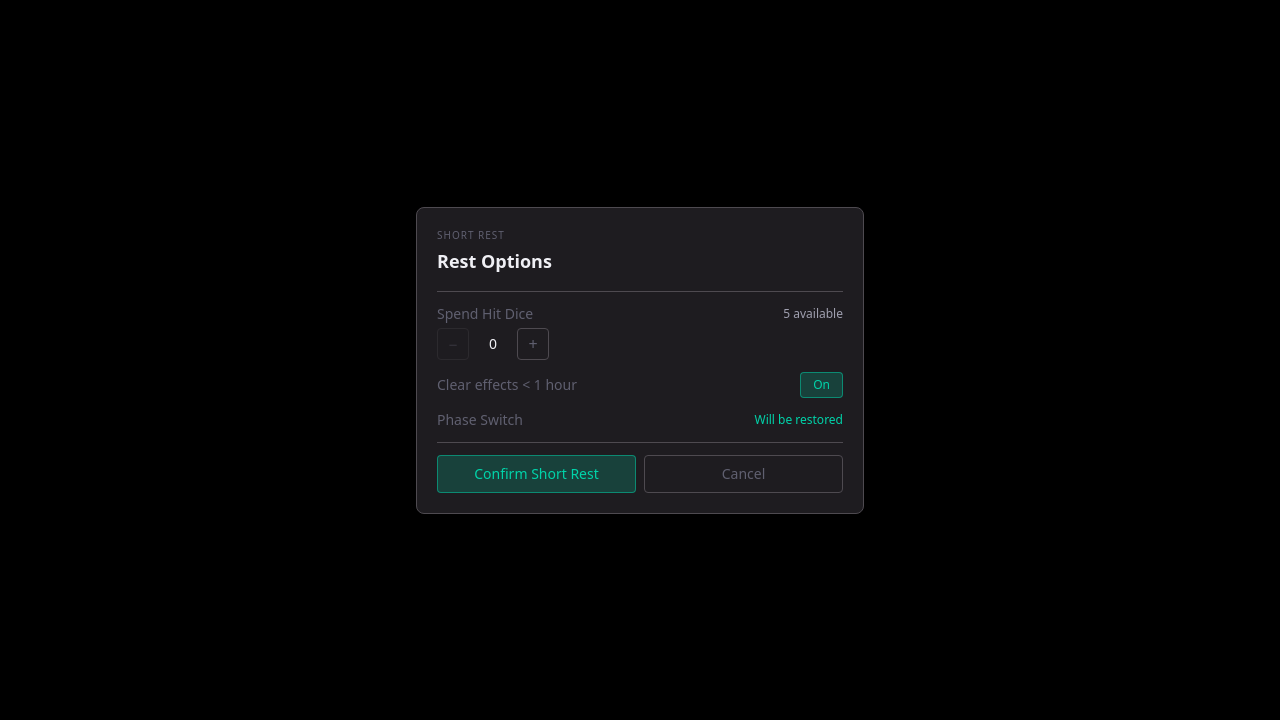
Test case: ShortRestDialog › increments and decrements hit dice to spend
Expected: the text "0" is shown, 489,334 -> 497,352
Click the button named "Increase hit dice": coordinates (533, 344) 517,328 -> 549,360
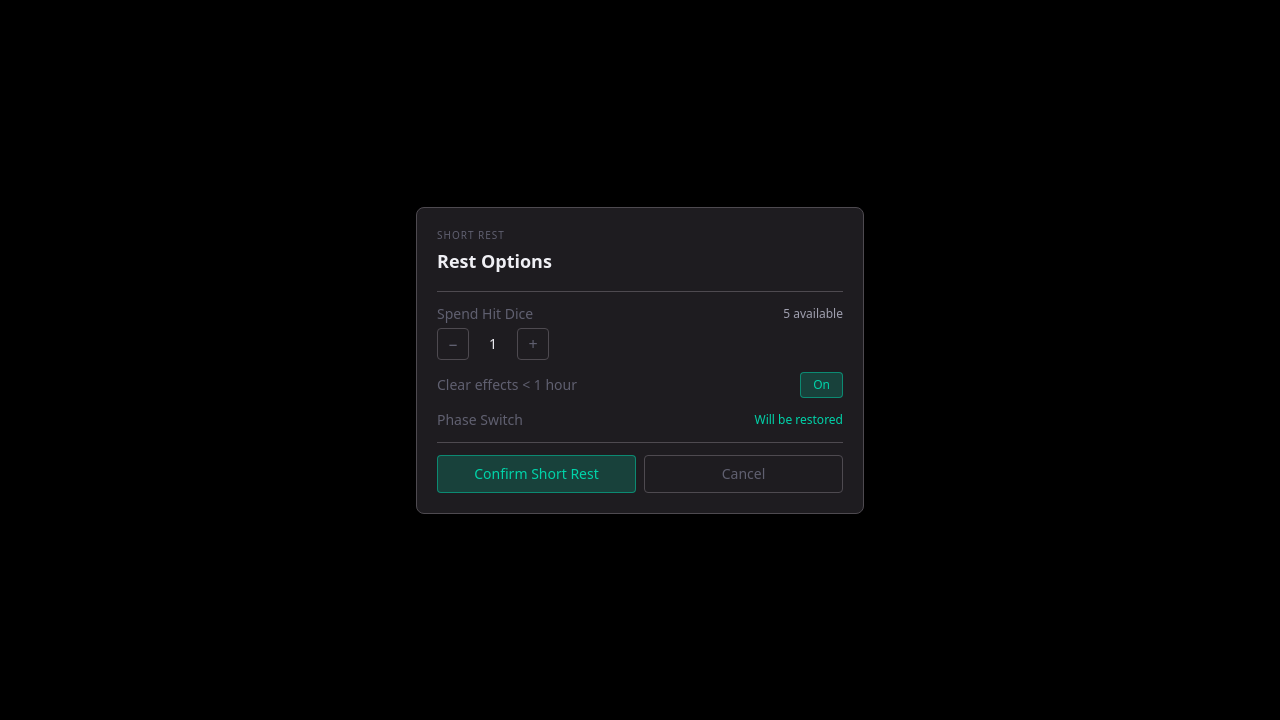
Result: the text "1" is shown at 489,334 -> 497,352
Click the button named "Increase hit dice": coordinates (533, 344) 517,328 -> 549,360
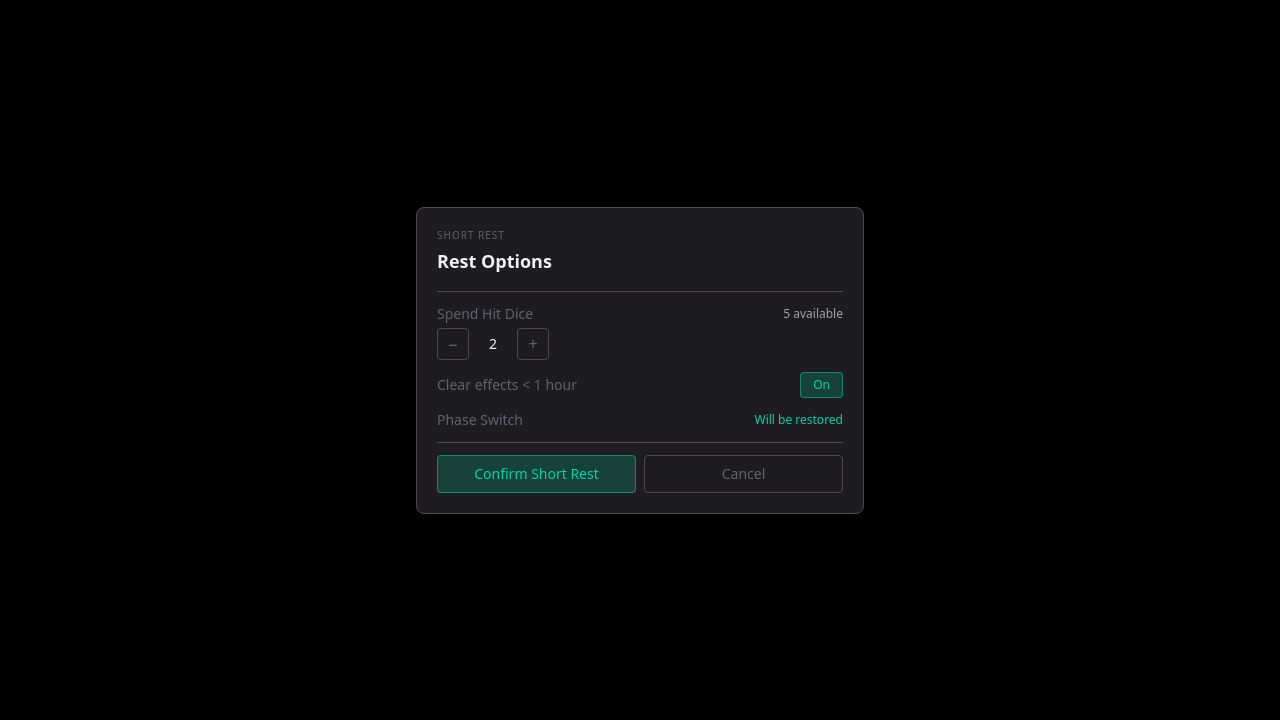
Result: the text "2" is shown at 489,334 -> 497,352
Click the button named "Decrease hit dice": coordinates (453, 344) 437,328 -> 469,360
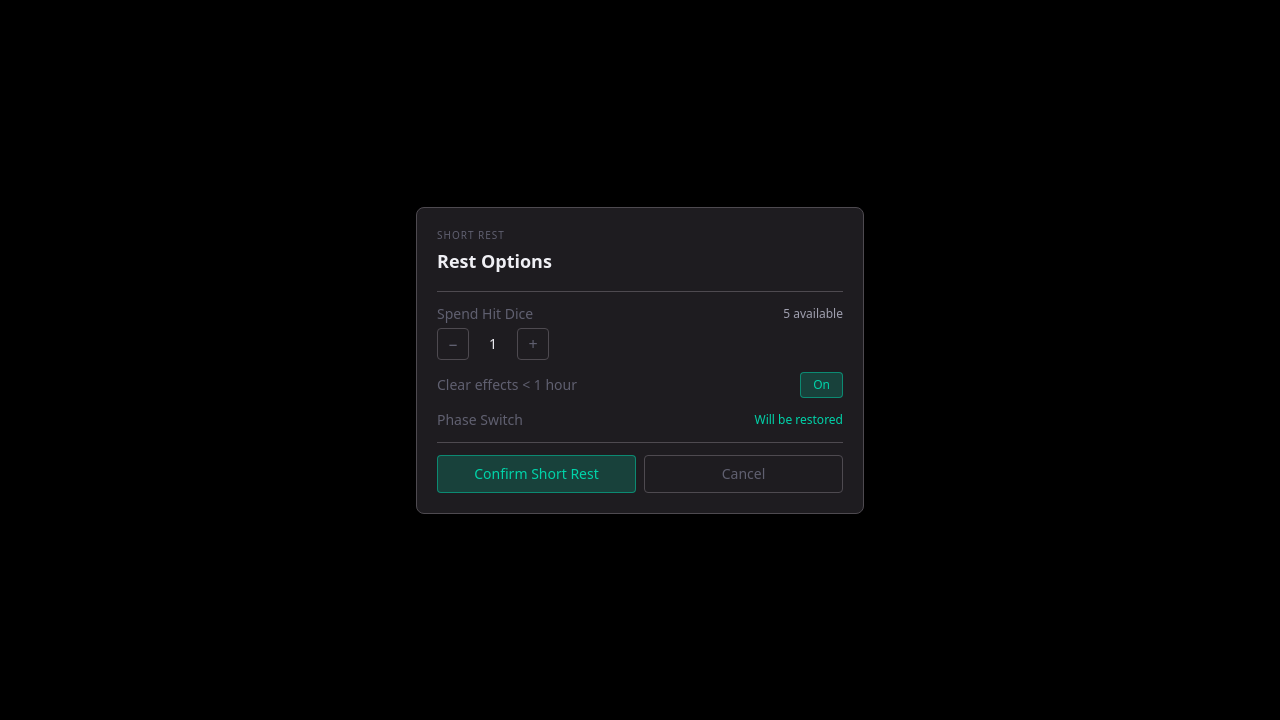
Result: the text "1" is shown at 489,334 -> 497,352
